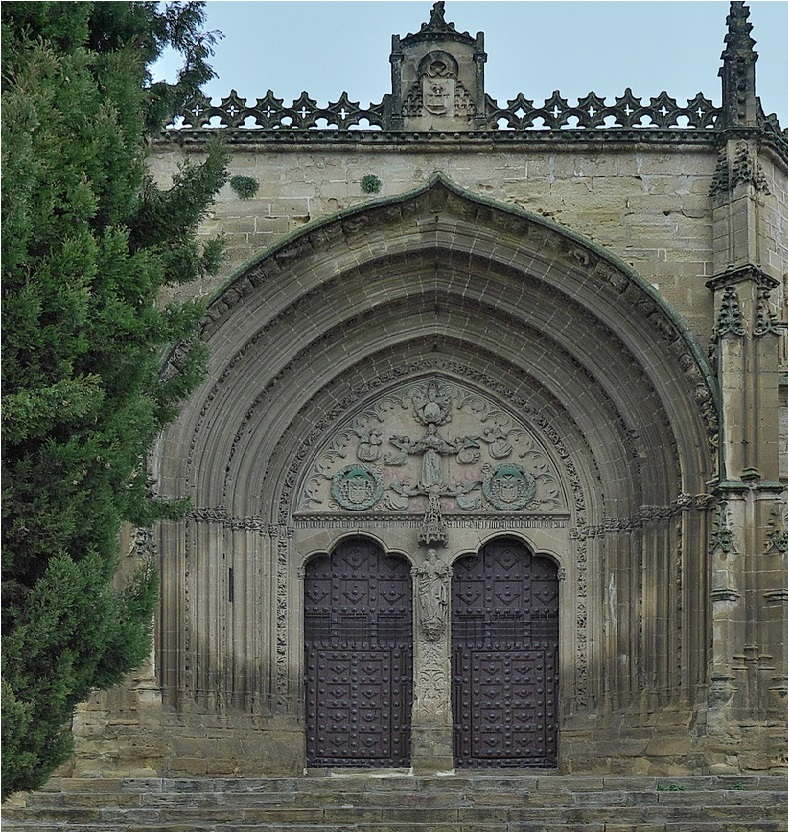arco-apuntado: (248, 239, 633, 501)
arco-conopial: (304, 160, 591, 237)
arco-trilobulado: (440, 527, 583, 594), (283, 530, 423, 593)
